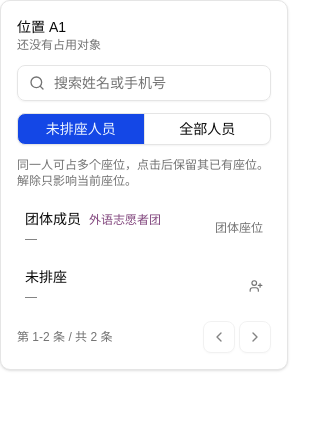
Test: SeatAssignPanel › 默认只显示未排座人员，并可切换到全部人员
The image size is (320, 446).
Expected: the text "未排座" is shown, x1=25 y1=267 x2=67 y2=287
Expected: the text "已个人排座" is not shown
Click the button "全部人员": (208,129) x1=144 y1=113 x2=271 y2=145
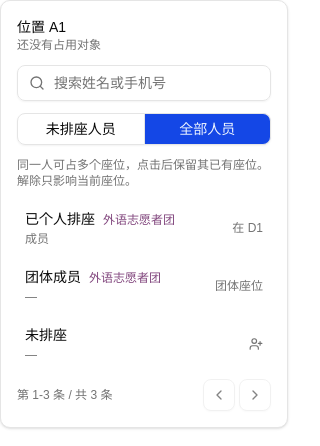
Expected: the text "已个人排座" is shown, x1=25 y1=209 x2=95 y2=229
Expected: the text "在 D1" is shown, x1=232 y1=220 x2=263 y2=236
